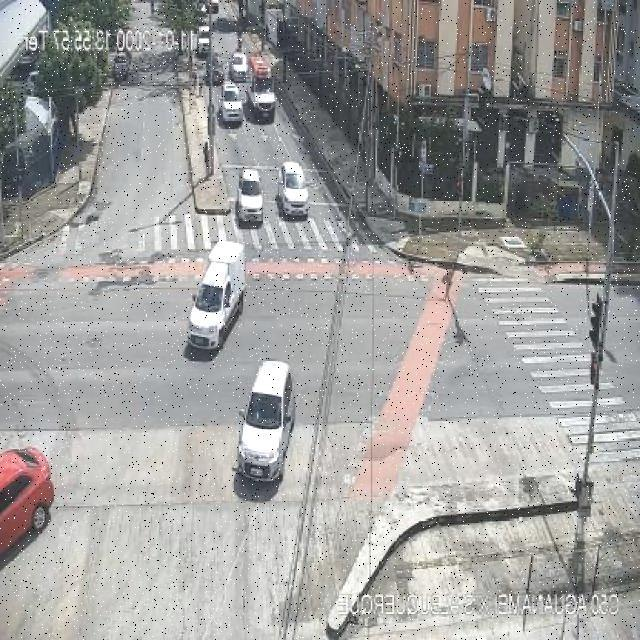Car: (234, 362, 294, 484), (279, 162, 309, 216), (236, 168, 264, 223), (220, 81, 244, 125), (112, 52, 132, 82), (203, 58, 225, 85), (230, 52, 248, 82), (195, 27, 212, 57), (208, 0, 219, 14)
Van: (188, 240, 248, 350), (247, 50, 276, 121)
